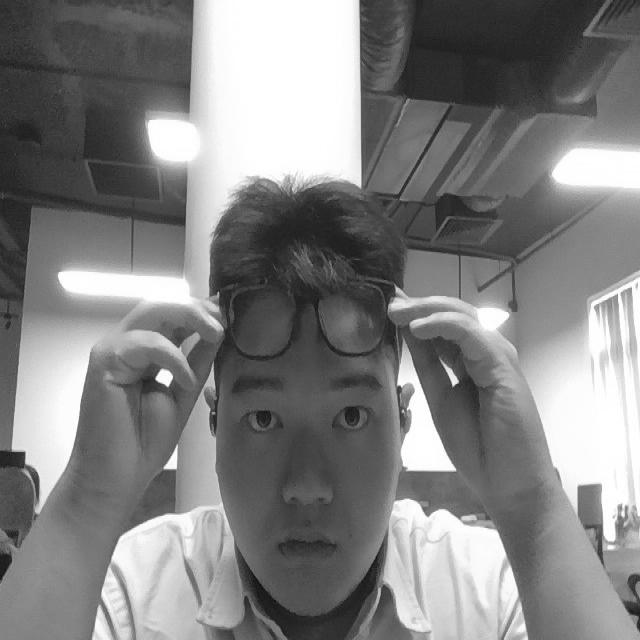real: (199, 147, 419, 628), (227, 393, 391, 456)
